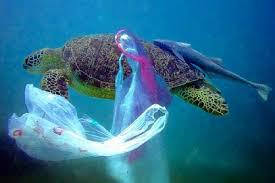Plastic: (10, 83, 175, 176), (103, 51, 171, 182)
